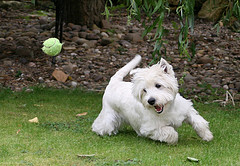tennis ball: (41, 36, 62, 57)
